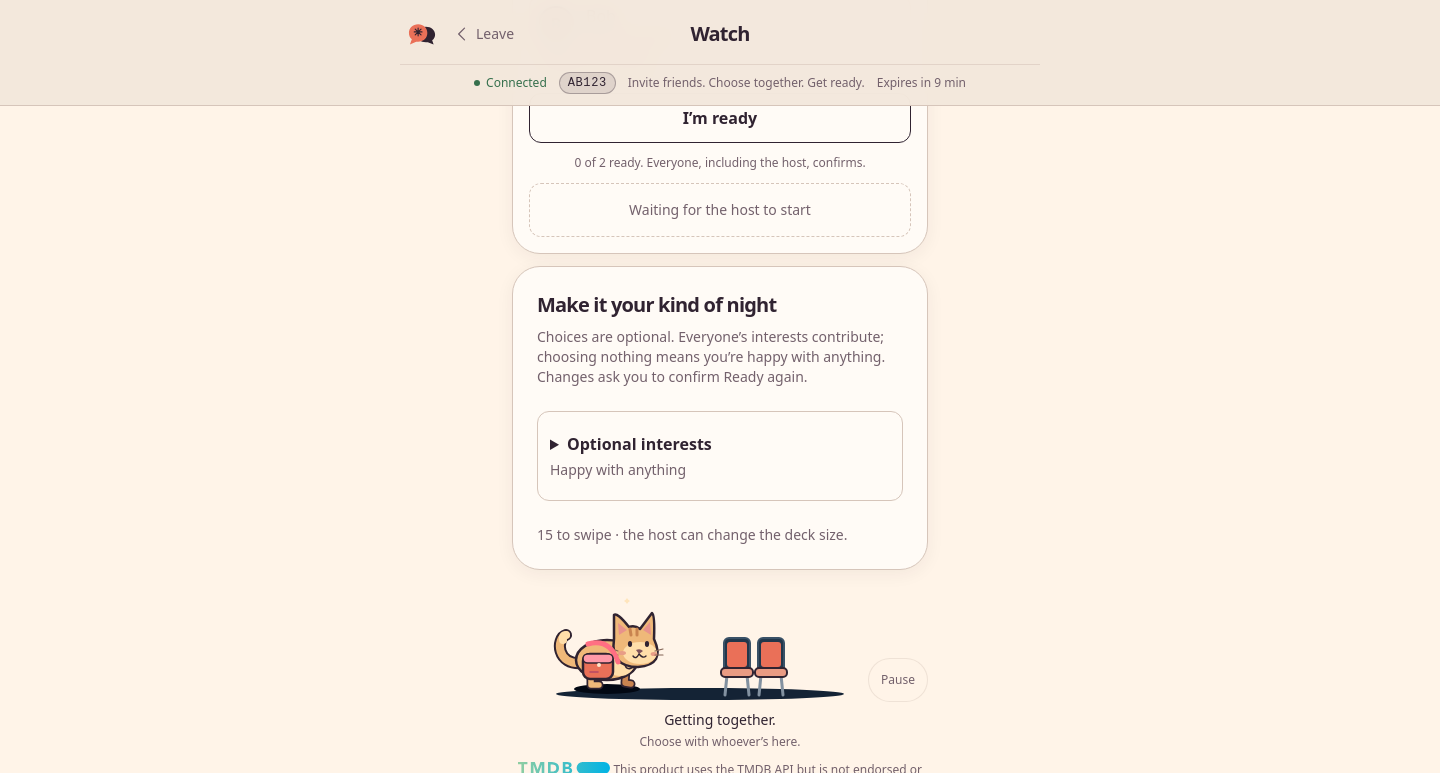
Test case: does not retry across a changed own choice
This screenshot has width=1440, height=773.
(page scrolled)
Click the heading "Optional interests Happy with anything" at {"x": 631, "y": 456}, box [550, 433, 712, 479]
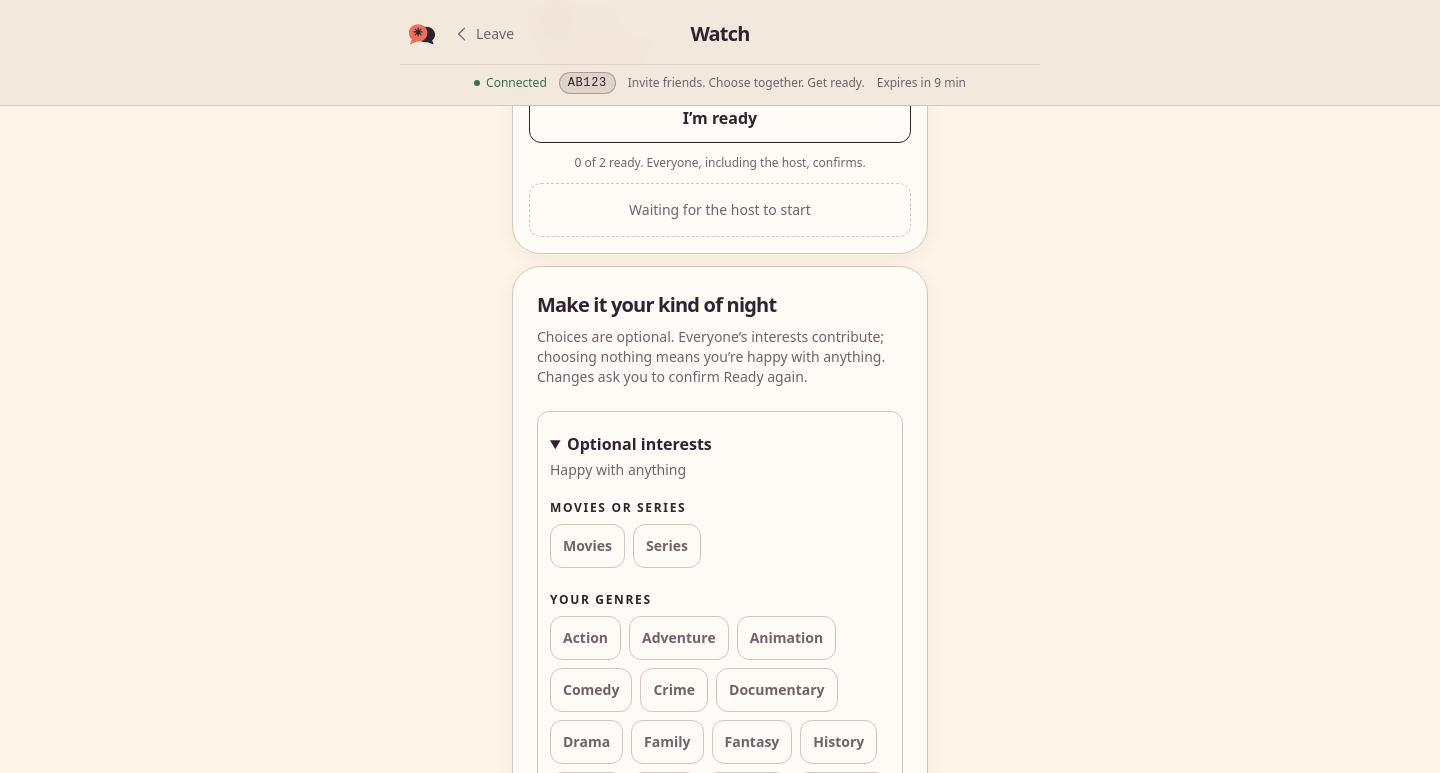
expect the button "Comedy" is shown: met
Click the button "Comedy" at {"x": 591, "y": 690}, box [550, 668, 632, 712]
(page scrolled)
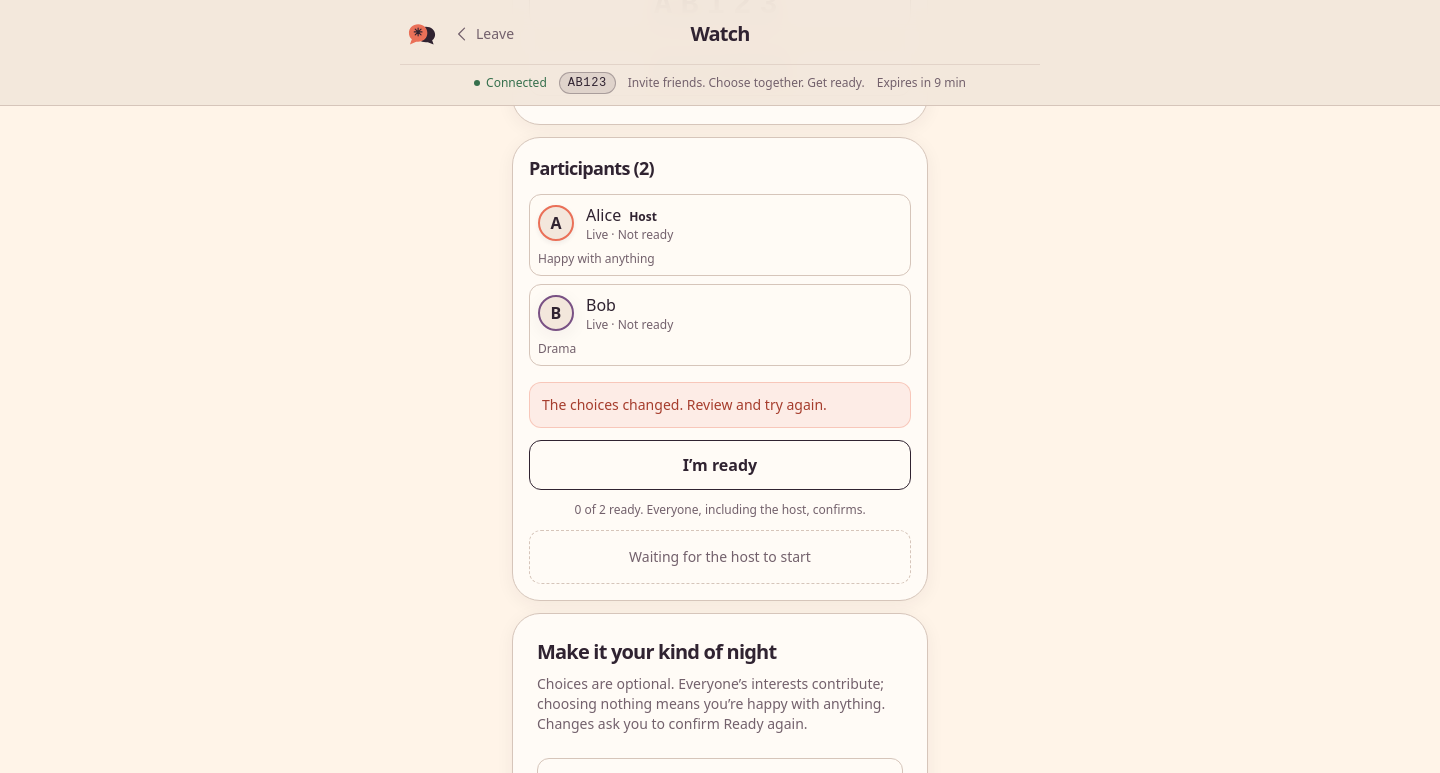
expect the message "The choices changed. Review and try again." is shown: met, box [529, 382, 911, 428]
